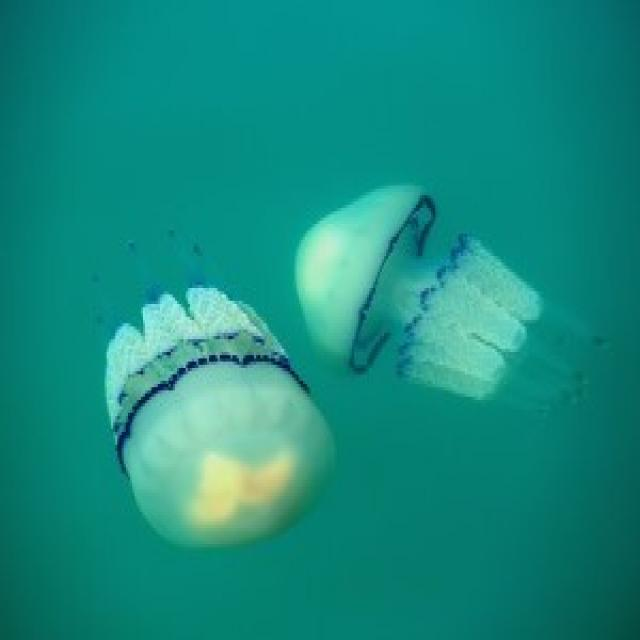Jellyfish: (94, 288, 346, 557), (284, 191, 580, 411)
